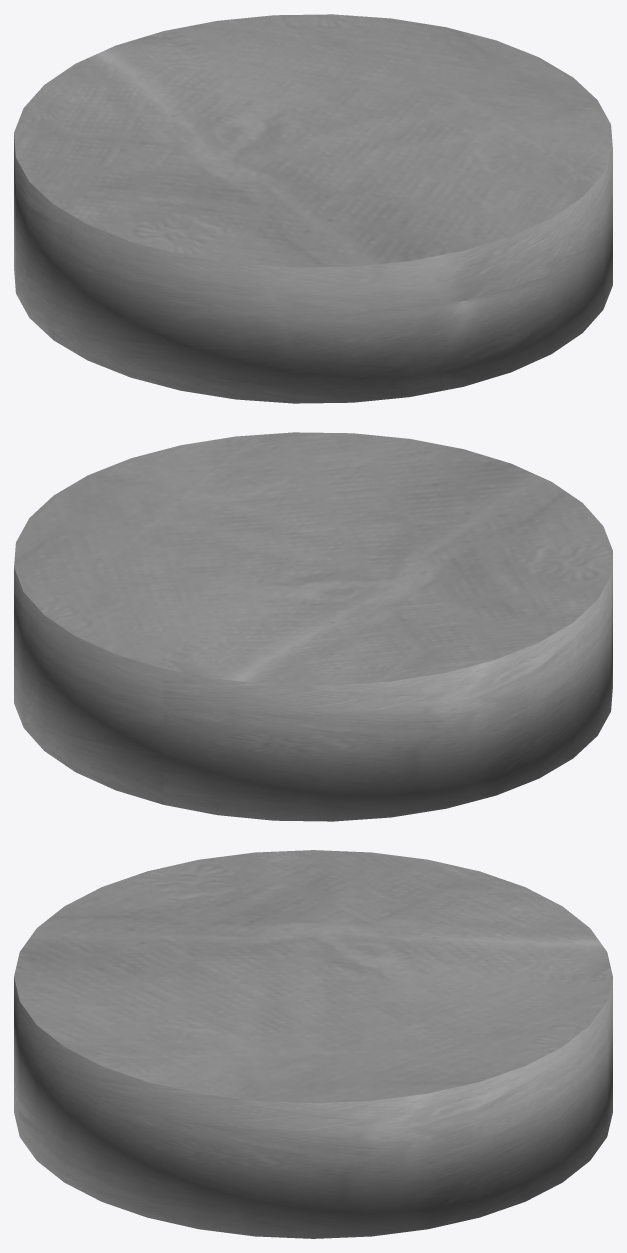
The model's file is table.fbx.
The picture shows the model from 3 angles, top to bottom: view 1: azimuth 30°, elevation 25°; view 2: azimuth 150°, elevation 25°; view 3: azimuth 270°, elevation 25°; orthographic projection.
Visible parts, largest first — view 1: mesh_table; view 2: mesh_table; view 3: mesh_table.
Part boxes in pixels (left/top/right/bottom): mesh_table: left=14, top=14, right=612, bottom=403; mesh_table: left=14, top=432, right=612, bottom=821; mesh_table: left=14, top=850, right=612, bottom=1238.
Bounding box in the file's own units: 400 × 100 × 400.
